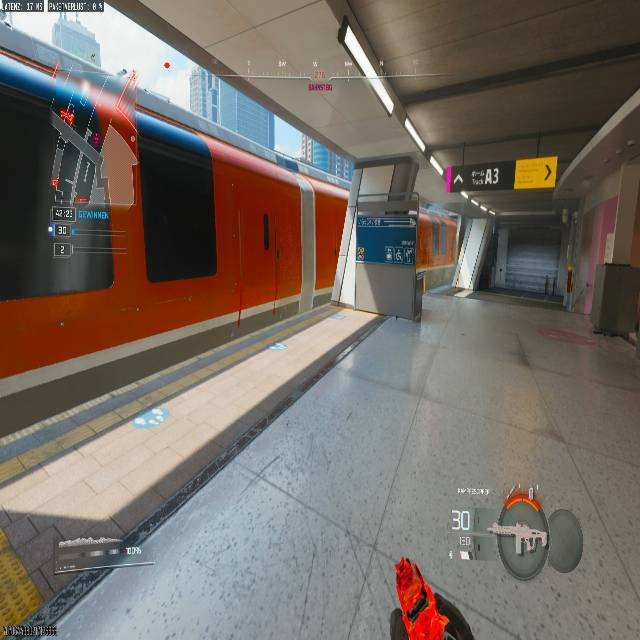player: (356, 247, 365, 261)
